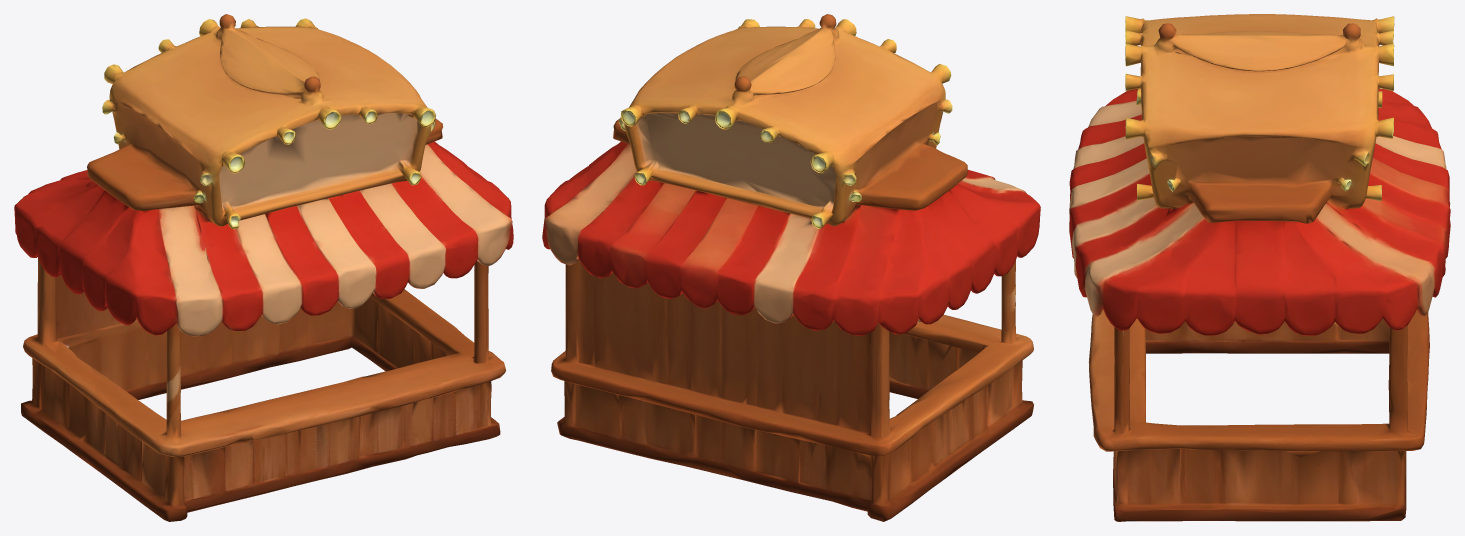
File: booth-stall.glb
3 views of the same model, side by side, from view 1: azimuth 30°, elevation 25°; view 2: azimuth 150°, elevation 25°; view 3: azimuth 270°, elevation 25° (orthographic). The views are drawn at different scales.
Visible parts, largest first — view 1: tripo_node_3fc53c0c-f113-46fe-99f8-559b33ff28b9; view 2: tripo_node_3fc53c0c-f113-46fe-99f8-559b33ff28b9; view 3: tripo_node_3fc53c0c-f113-46fe-99f8-559b33ff28b9.
Part boxes in pixels (box(x1,y1,x2,y2)): tripo_node_3fc53c0c-f113-46fe-99f8-559b33ff28b9: box(14, 14, 513, 521); tripo_node_3fc53c0c-f113-46fe-99f8-559b33ff28b9: box(542, 14, 1040, 521); tripo_node_3fc53c0c-f113-46fe-99f8-559b33ff28b9: box(1069, 14, 1450, 521).
Size of the model in its own units: 1 by 0.9361 by 0.7834.
Materials: 1 (1 with a texture image).
